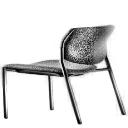chair_success: (0, 20, 127, 127)
